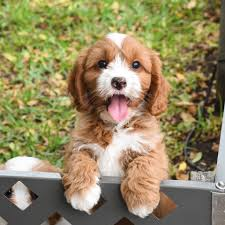dog: (37, 18, 179, 220)
